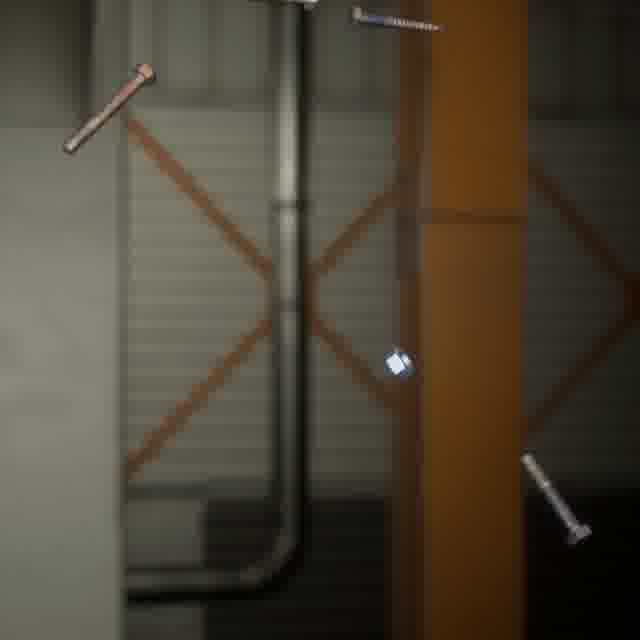bolt: (58, 58, 161, 159), (515, 448, 597, 550), (344, 3, 447, 37)
nut: (381, 341, 418, 384)
